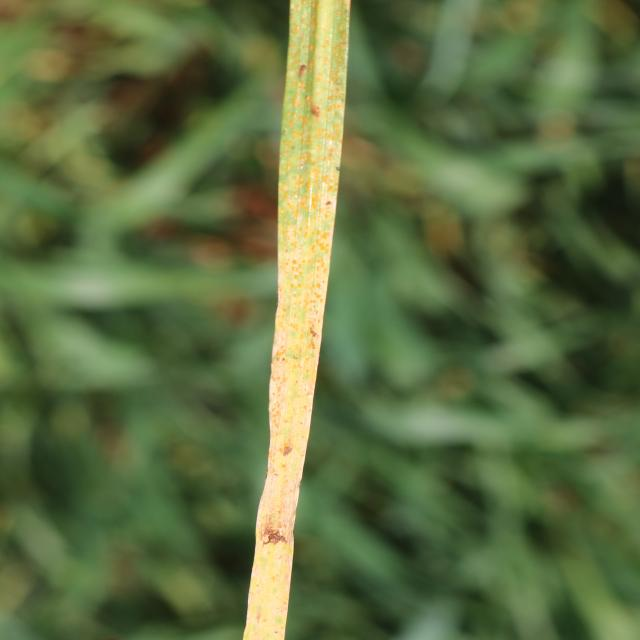Stripe Rust: (261, 73, 347, 544)
